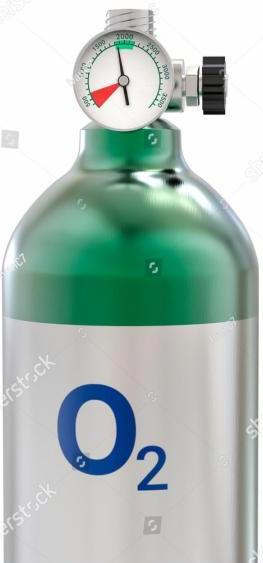cylinder: (0, 1, 263, 563)
